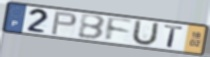2: (25, 8, 50, 35)
B: (77, 14, 107, 41)
F: (105, 16, 134, 43)
P: (50, 11, 79, 36)
T: (163, 24, 184, 49)
U: (130, 19, 161, 47)
